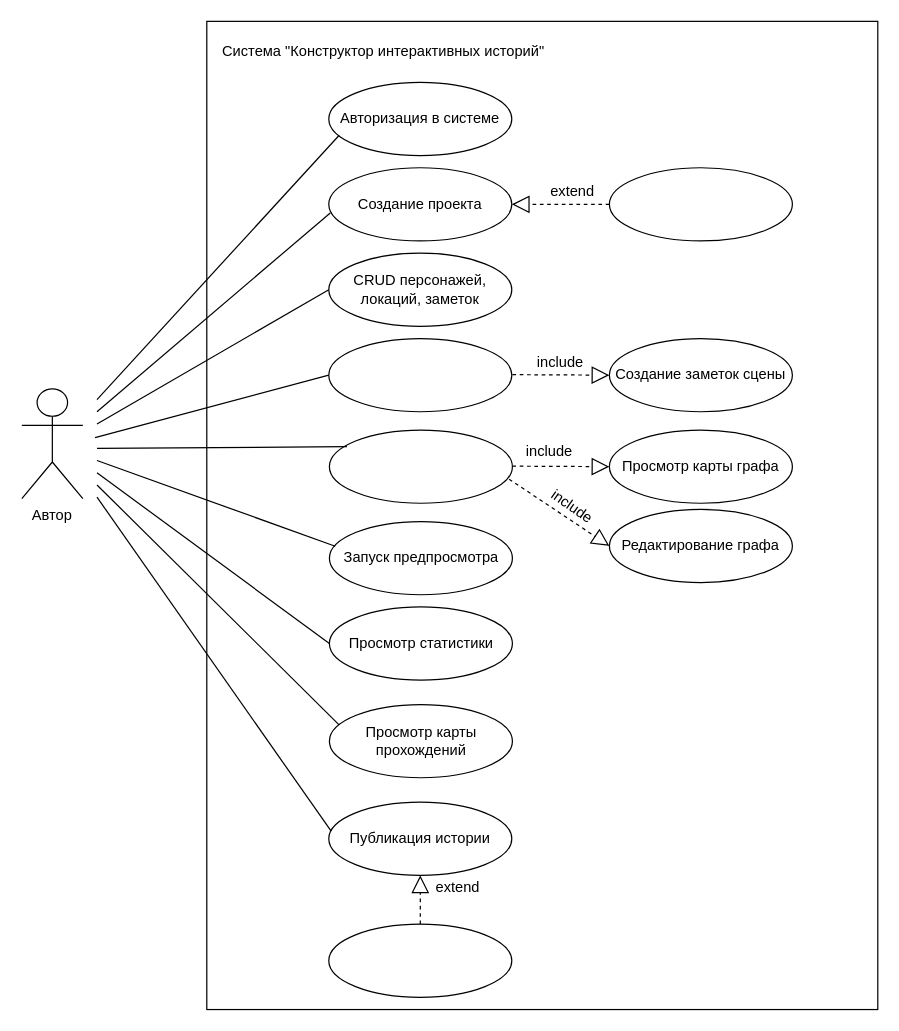
The diagram is 899 pixels wide and 1031 high, and some of its shapes have lost their labels. The shapes that lost their labels are listed below. From the top down, each one's centre as x and y in pixels, then its label:
the point at 700,204: Выбор шаблона
the point at 420,374: Создание и редактирование сцен
the point at 420,466: Настройка логики (переменных, условий) и связей
the point at 420,960: Экспорт в DOCX/PDF/JSON
